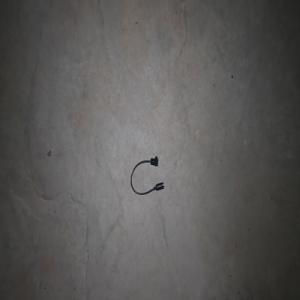Wire: (130, 155, 164, 195)
